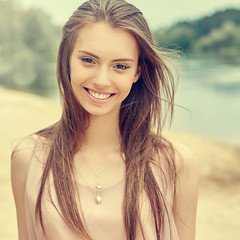teen: (57, 2, 155, 126)
